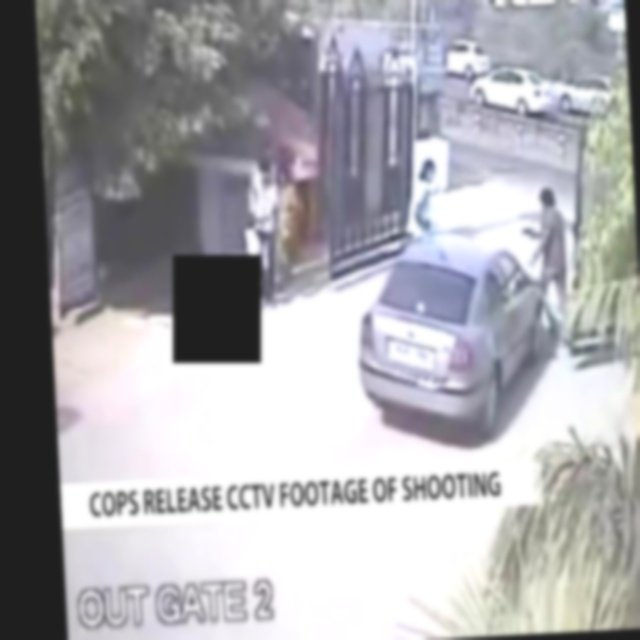gun: (516, 219, 539, 241)
